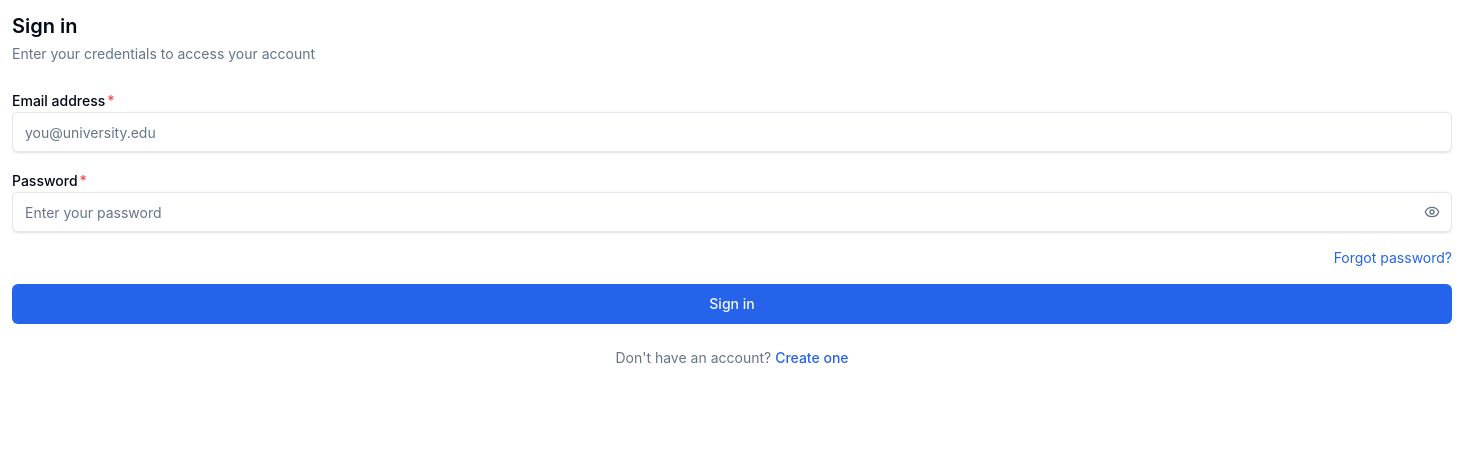
Scenario: LoginPage › shows the API error and stays on the page when credentials are rejected
In the field labelled "Email address*": (732, 132) [12,112,1452,152], type "student@university.edu"
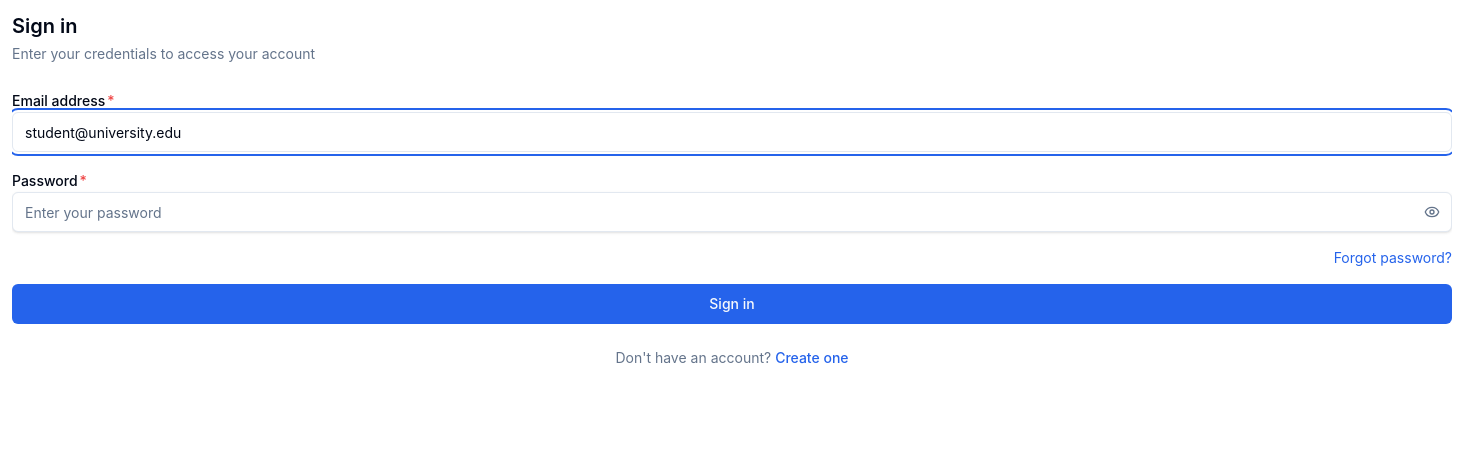
In the password field labelled "Password*": (732, 212) [12,192,1452,232], type "wrong-password"
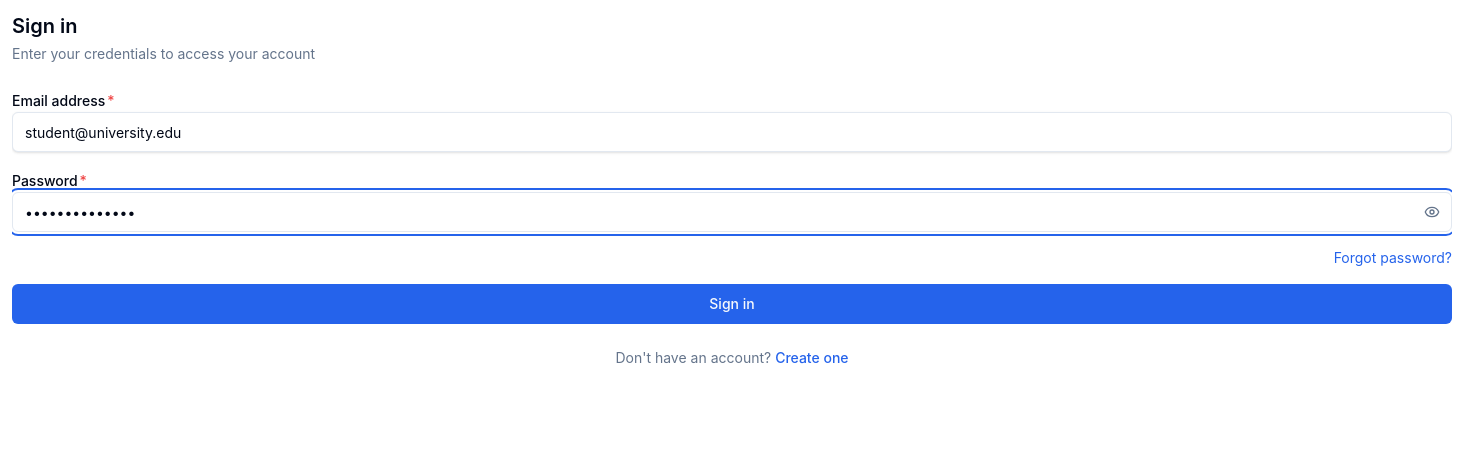
Click the button "Sign in": (732, 304) [12,284,1452,324]
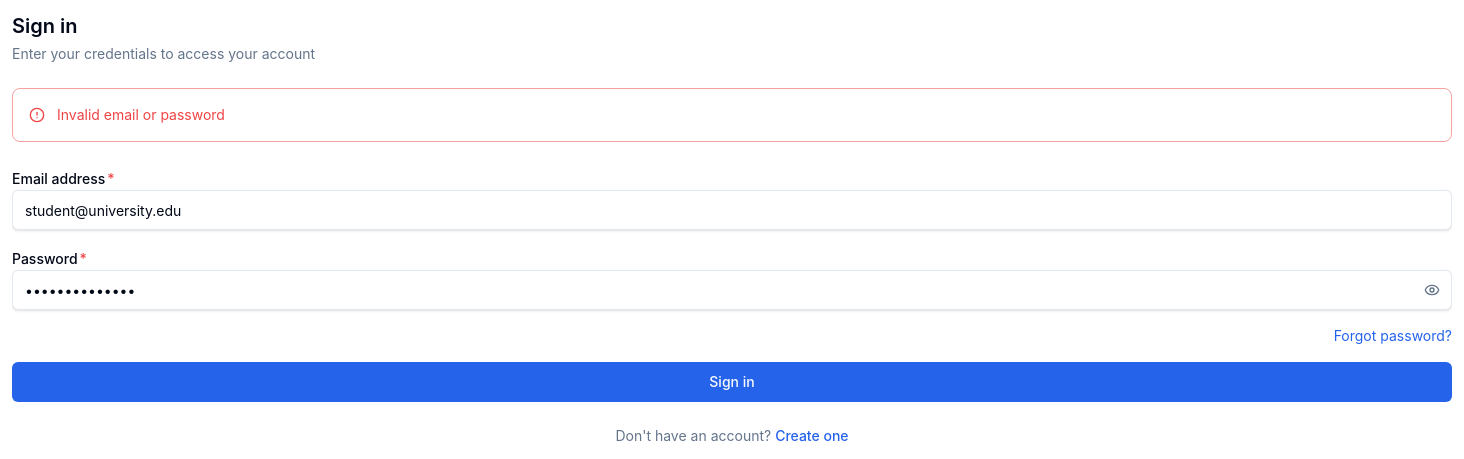
Expected: the heading "Sign in" is shown, [12,14,78,38]
Expected: the text "Invalid email or password" is shown, [29,105,225,125]
